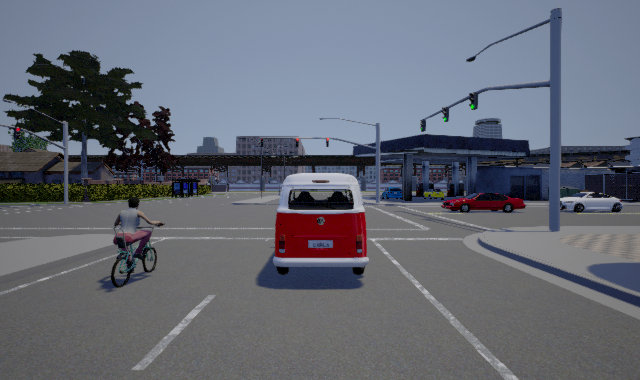bike: (111, 198, 165, 288)
traffic_light: (469, 92, 478, 110), (442, 107, 449, 122), (14, 127, 21, 139), (420, 119, 426, 132), (326, 138, 329, 147), (296, 138, 299, 147), (261, 138, 264, 147)
vehicle: (273, 173, 369, 275), (441, 193, 526, 213), (560, 192, 623, 213), (381, 186, 404, 200)
